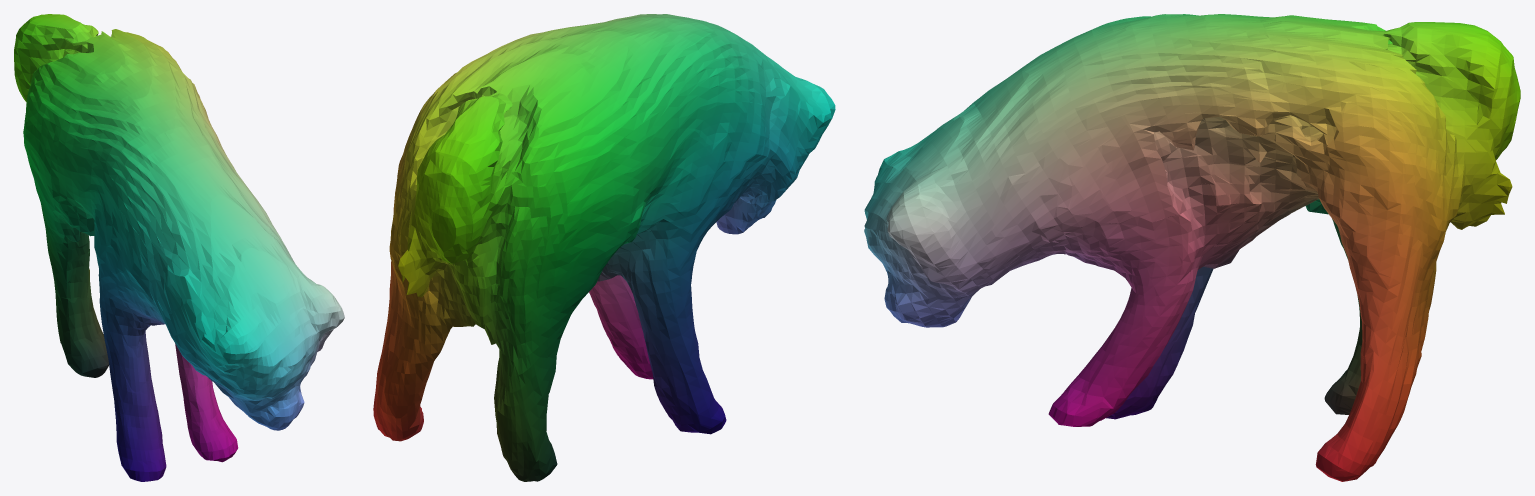
Rendered from shiba-haru-1001-mesh-00056.obj.
3 views of the same model, side by side, from view 1: azimuth 30°, elevation 25°; view 2: azimuth 150°, elevation 25°; view 3: azimuth 270°, elevation 25° (orthographic). The views are drawn at different scales.
Bounding box in the file's own units: 0.0516 × 0.0842 × 0.1182.
